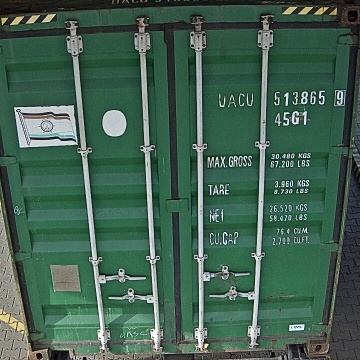serial_id: (218, 90, 345, 106)
